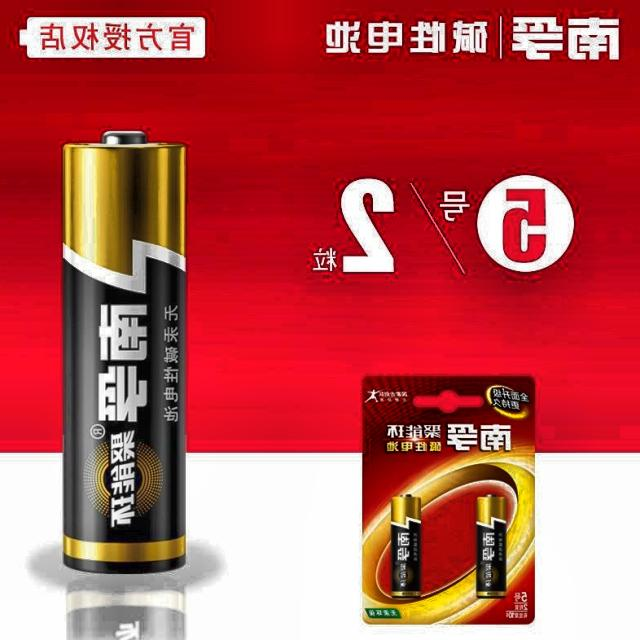Non-Valuable Waste - Batteries: (63, 131, 185, 573), (391, 495, 421, 597), (476, 495, 506, 597)
